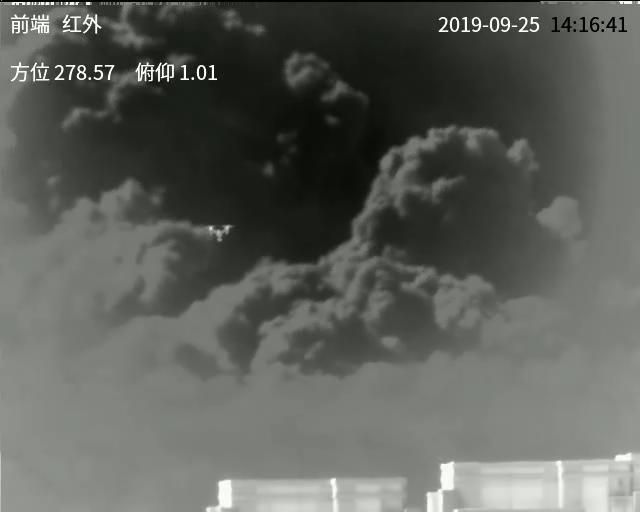uav: (205, 223, 233, 247)
